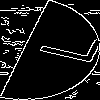L: (25, 25, 100, 66)
